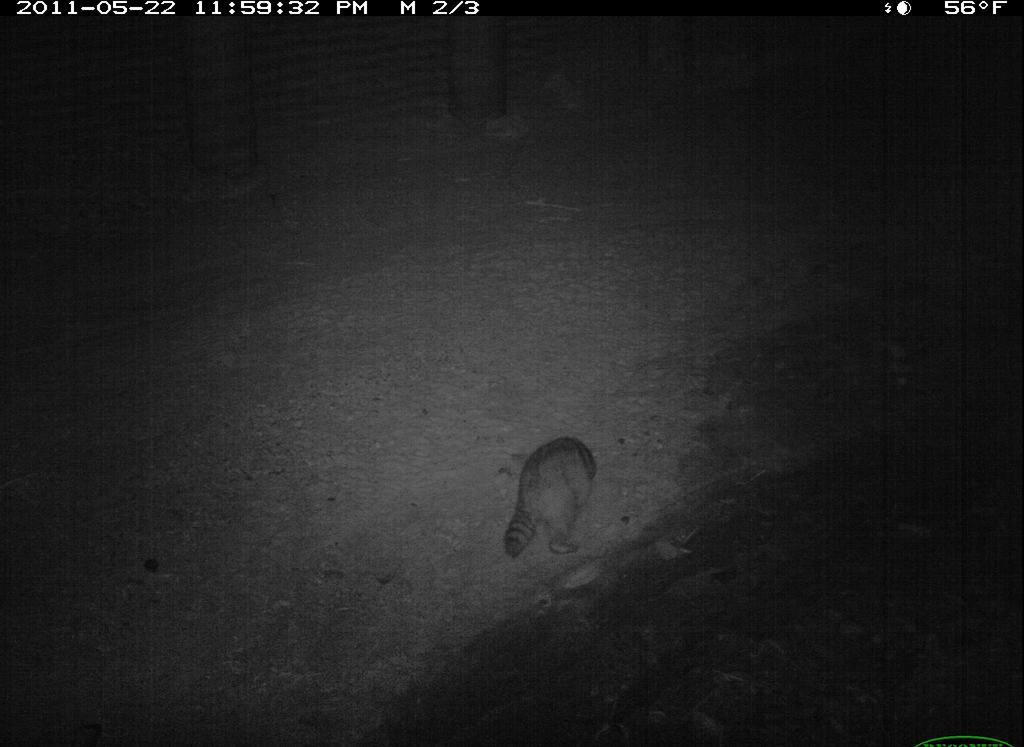raccoon: (497, 428, 606, 566)
